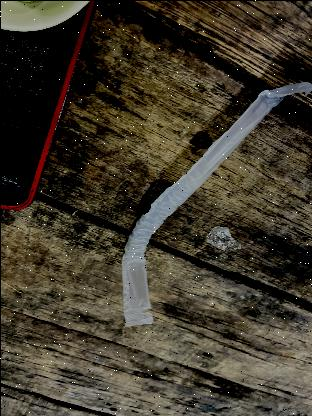Others: (110, 76, 312, 338)
